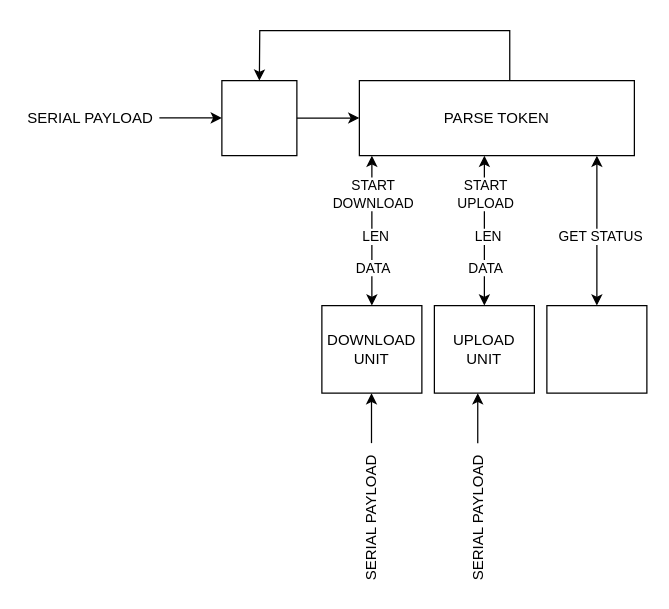
This 669x609 diagram has some shape labels left out. The shapes that lost their labels are listed below. From the top down, each one's centre as x and y in pixels, then its label:
At pixel 259 117: "LEX TOKEN".
At pixel 596 348: "MAERI ENGINE".
